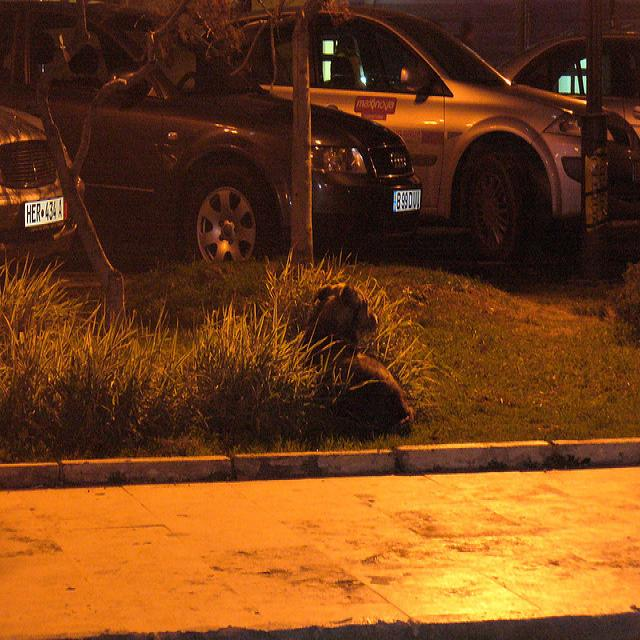dog: (269, 298, 426, 458)
